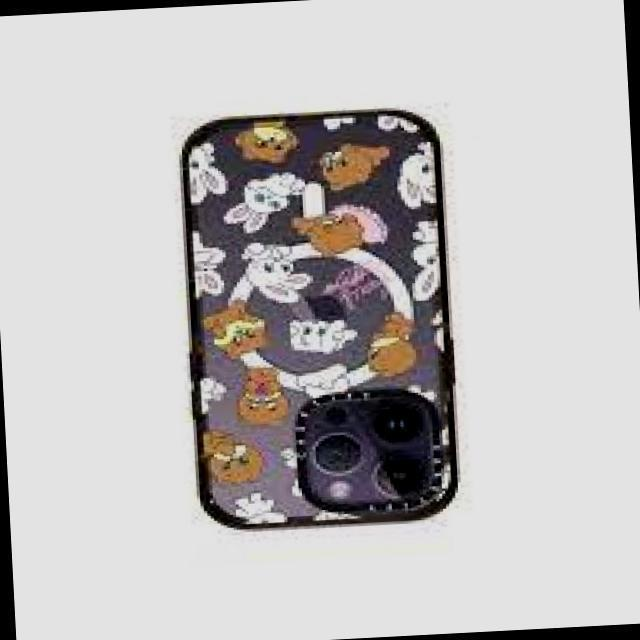phone: (171, 101, 467, 541)
